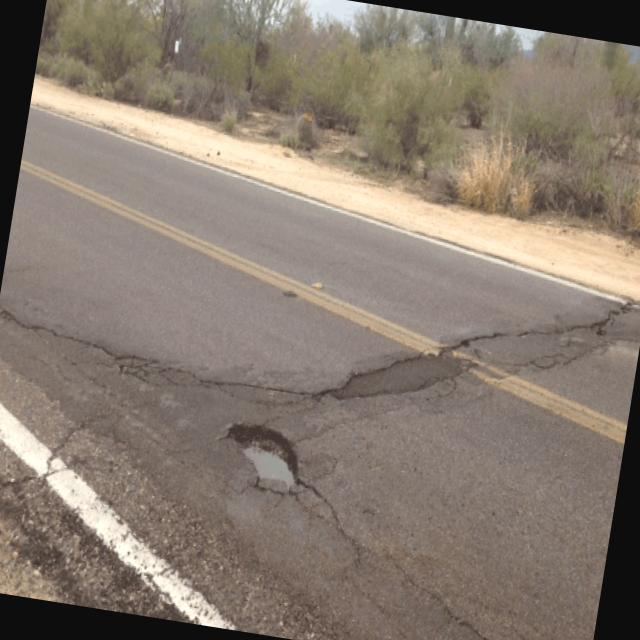bad-road: (216, 418, 306, 500)
